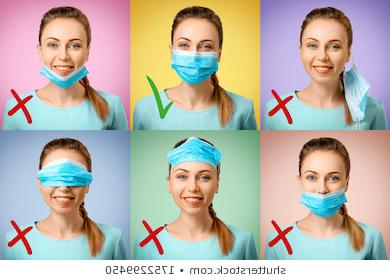mask_weared_incorrect: (166, 147, 220, 216), (36, 157, 89, 214), (40, 31, 85, 85), (301, 166, 346, 216)
with_mask: (174, 33, 216, 84)
without_mask: (304, 33, 344, 82)
